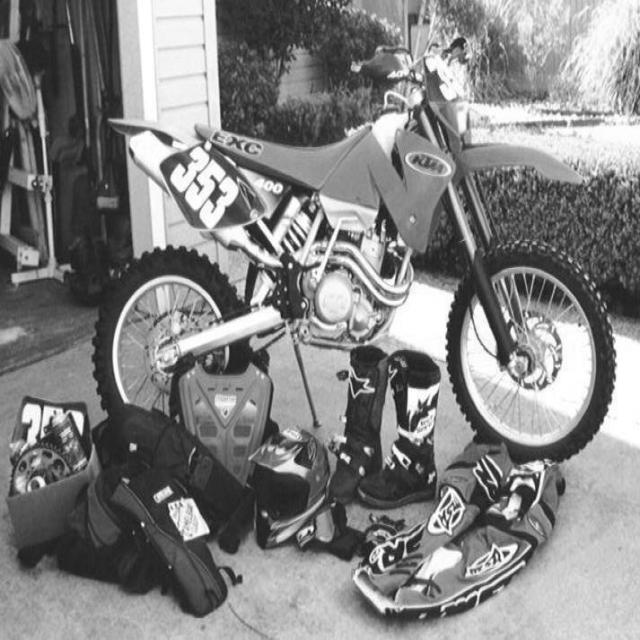Motorcycle: (94, 47, 617, 460)
